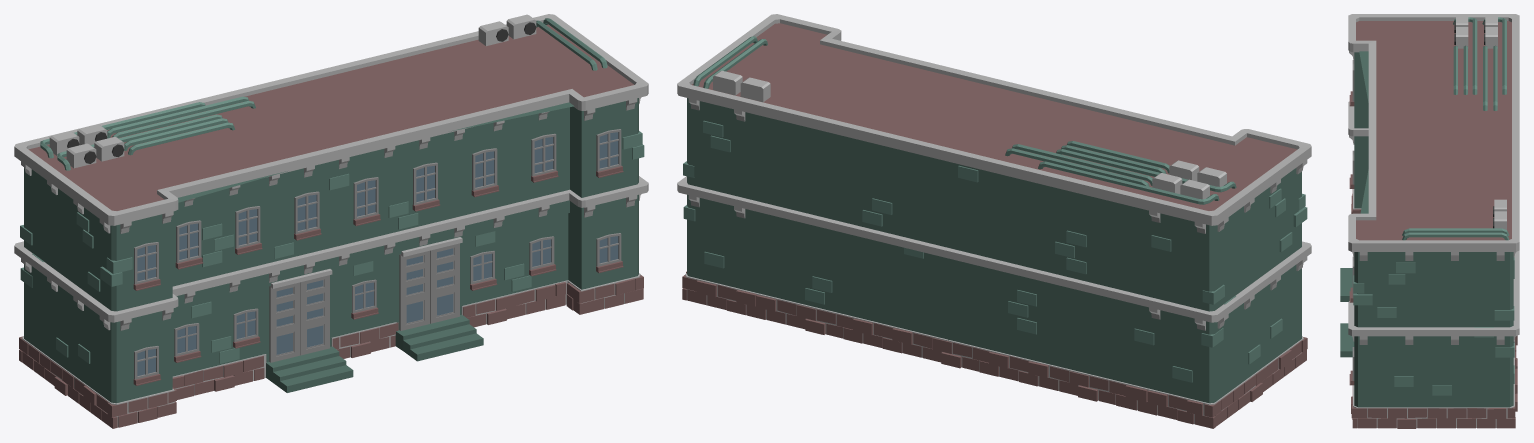
The model's file is 2Story_Wide_2Doors_Mat.glb.
3 renders of one model, left to right at view 1: azimuth 30°, elevation 25°; view 2: azimuth 150°, elevation 25°; view 3: azimuth 270°, elevation 25°, orthographic. The views are drawn at different scales.
Visible parts, largest first — view 1: 2Story_Wide_2Doors_Mat; view 2: 2Story_Wide_2Doors_Mat; view 3: 2Story_Wide_2Doors_Mat.
Part boxes in pixels (bbox=[...]): 2Story_Wide_2Doors_Mat: bbox=[14, 14, 648, 428]; 2Story_Wide_2Doors_Mat: bbox=[677, 14, 1311, 428]; 2Story_Wide_2Doors_Mat: bbox=[1340, 14, 1519, 428].
Bounding box in the file's own units: 6.83 × 2.75 × 2.26.
